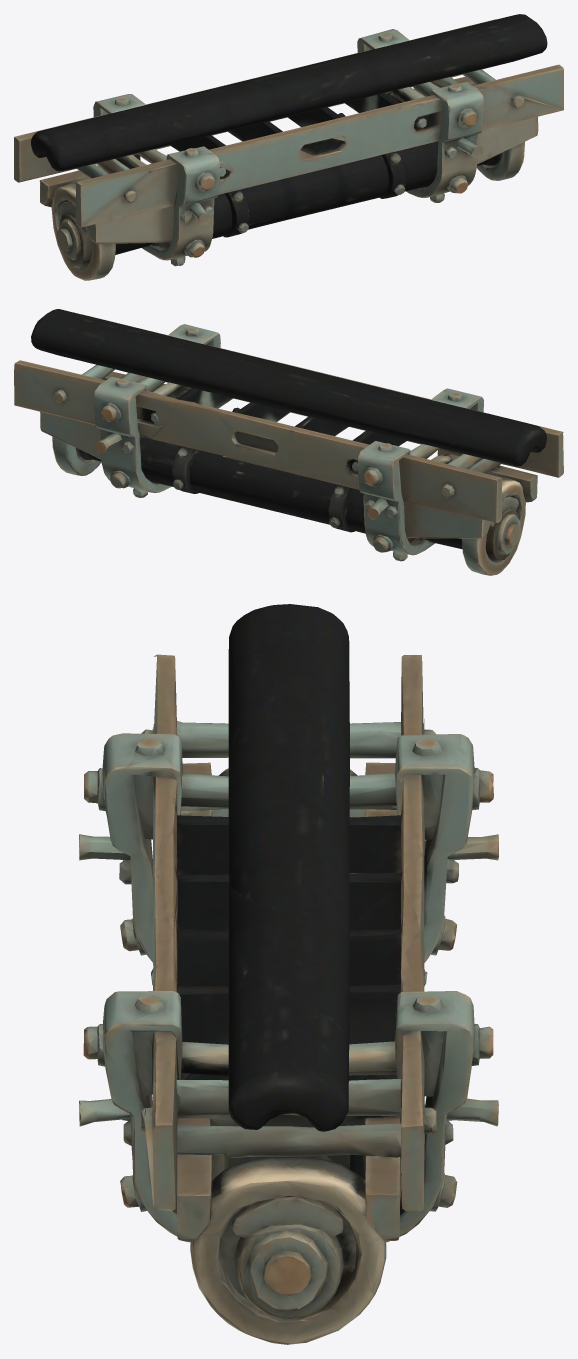
The model's file is conveyor_belt_section.glb.
3 renders of one model, top to bottom at view 1: azimuth 30°, elevation 25°; view 2: azimuth 150°, elevation 25°; view 3: azimuth 270°, elevation 25°, orthographic. The views are drawn at different scales.
Parts seen in each view (by area): view 1: main; view 2: main; view 3: main.
Boxes of the visible parts, bbox=[...] form: main: bbox=[14, 14, 563, 280]; main: bbox=[14, 309, 563, 575]; main: bbox=[79, 604, 498, 1344].
Bounding box in the file's own units: 1.83 × 0.5366 × 0.6748.
Materials: 1 (1 with a texture image).
